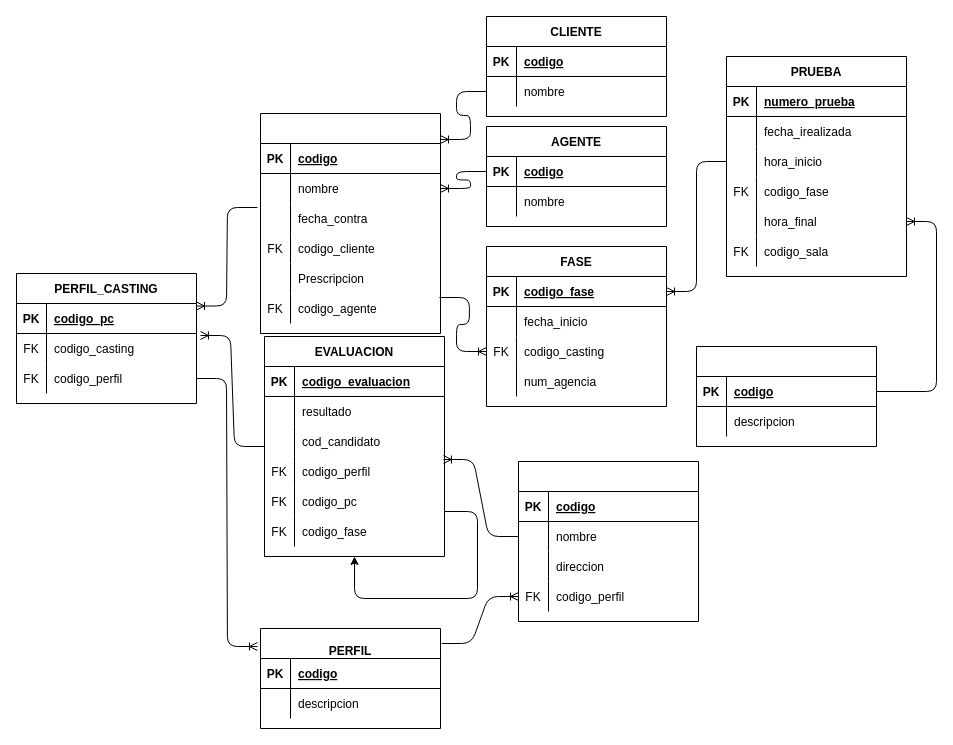
This 953x745 diagram has some shape labels left out. The box of each missing label's shape, as (x1, y1, x2, y2) in pixels:
CANDIDATO: (518, 460, 698, 622)
CASTING: (260, 112, 440, 334)
SALA: (696, 346, 876, 446)
